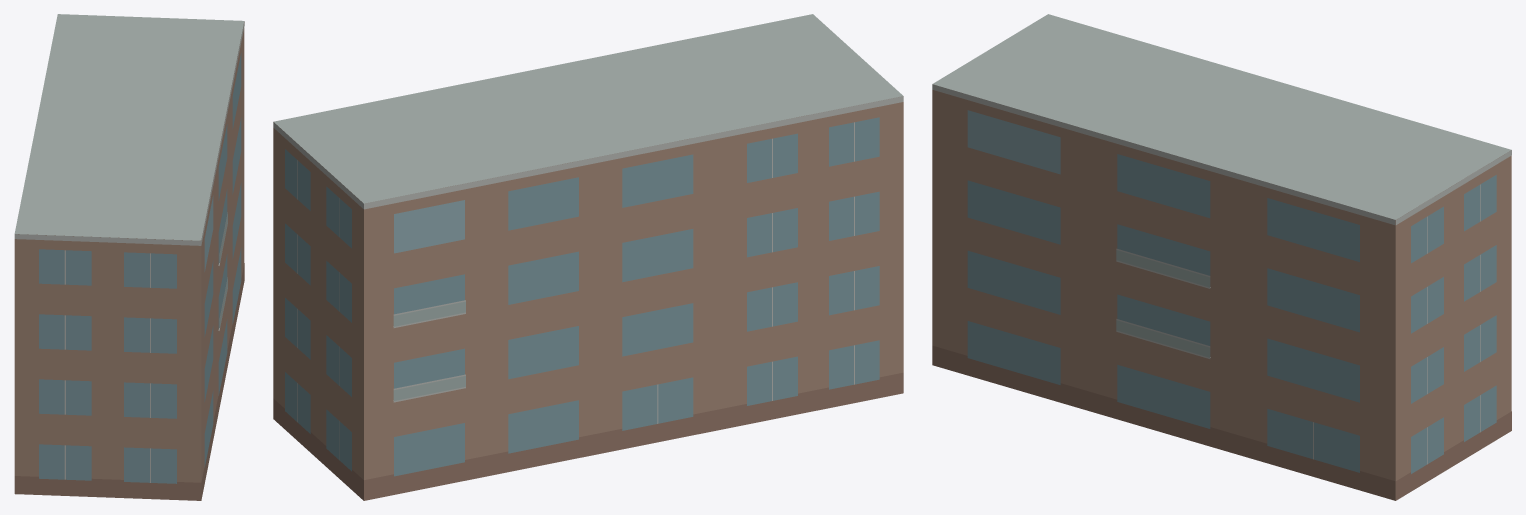
Rendered from survey-upis-32622102.glb.
The picture shows the model from 3 angles, left to right: view 1: azimuth 30°, elevation 25°; view 2: azimuth 150°, elevation 25°; view 3: azimuth 270°, elevation 25°; orthographic projection. The views are drawn at different scales.
Visible parts, largest first — view 1: survey-upis-32622102.tmp; view 2: survey-upis-32622102.tmp; view 3: survey-upis-32622102.tmp.
Boxes of the visible parts, <box> form: survey-upis-32622102.tmp: <box>14,14,244,500</box>; survey-upis-32622102.tmp: <box>273,14,903,500</box>; survey-upis-32622102.tmp: <box>932,14,1511,500</box>.
Bounding box in the file's own units: 19.5 × 12.4 × 23.19.
